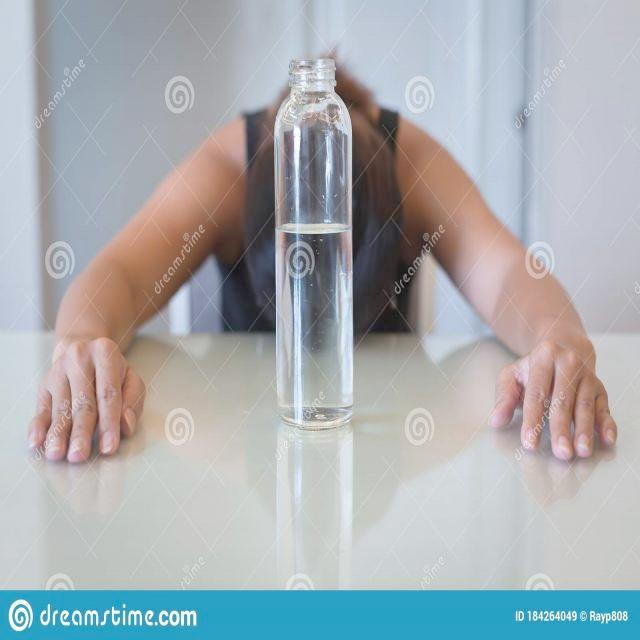bottle: (275, 59, 353, 432)
